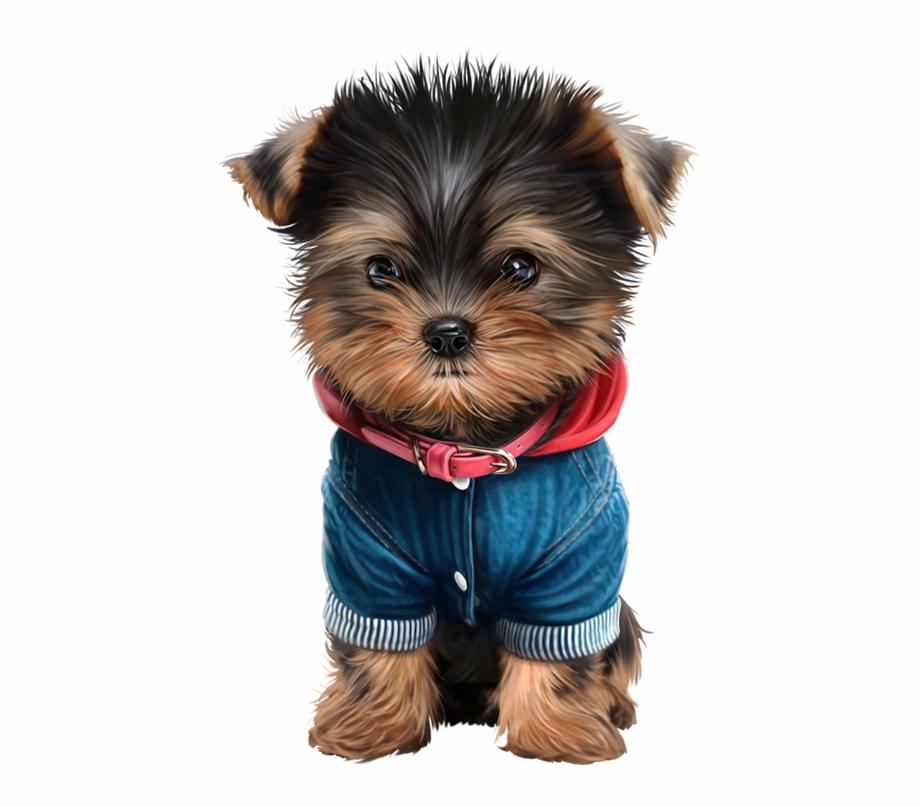dog: (222, 71, 700, 770)
